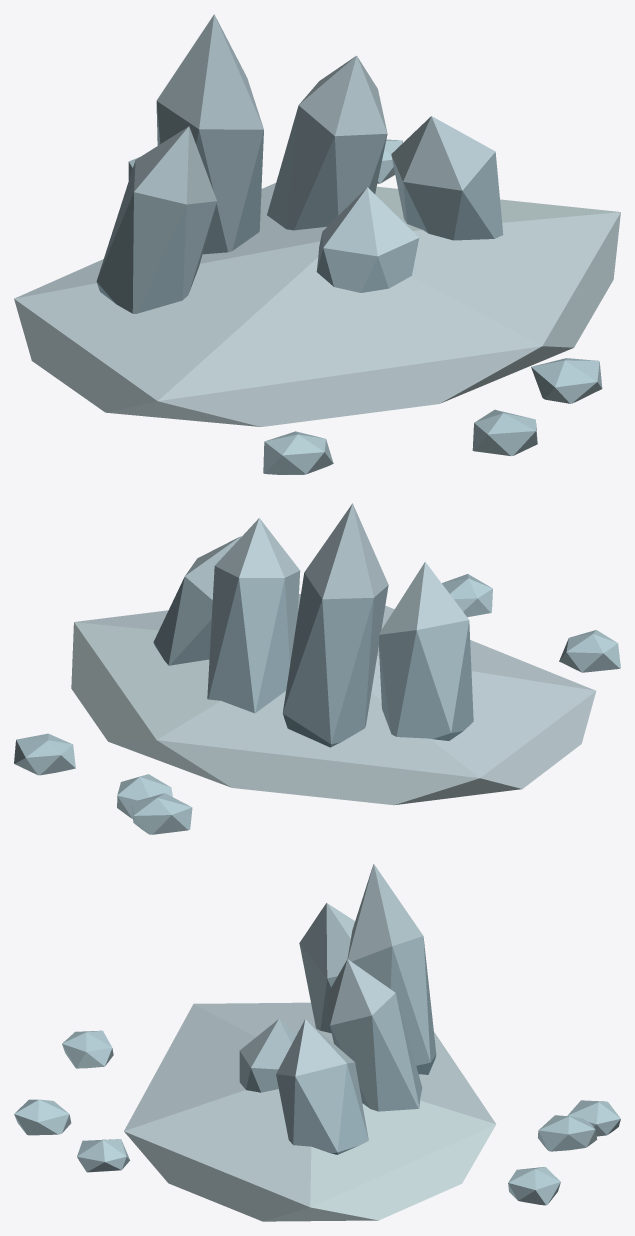
The model's file is lair-glacier.glb.
3 views of the same model, one above another, from view 1: azimuth 30°, elevation 25°; view 2: azimuth 150°, elevation 25°; view 3: azimuth 270°, elevation 25° (orthographic). The views are drawn at different scales.
Visible parts, largest first — view 1: lair-glacier; view 2: lair-glacier; view 3: lair-glacier.
Part boxes in pixels (left/top/right/bottom): lair-glacier: left=14, top=14, right=620, bottom=474; lair-glacier: left=14, top=503, right=620, bottom=834; lair-glacier: left=14, top=864, right=620, bottom=1221.
Bounding box in the file's own units: 5.69 × 2.87 × 6.82.
